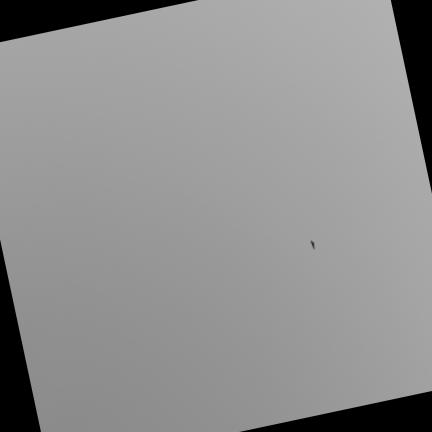Shahed: (310, 241, 314, 248)
